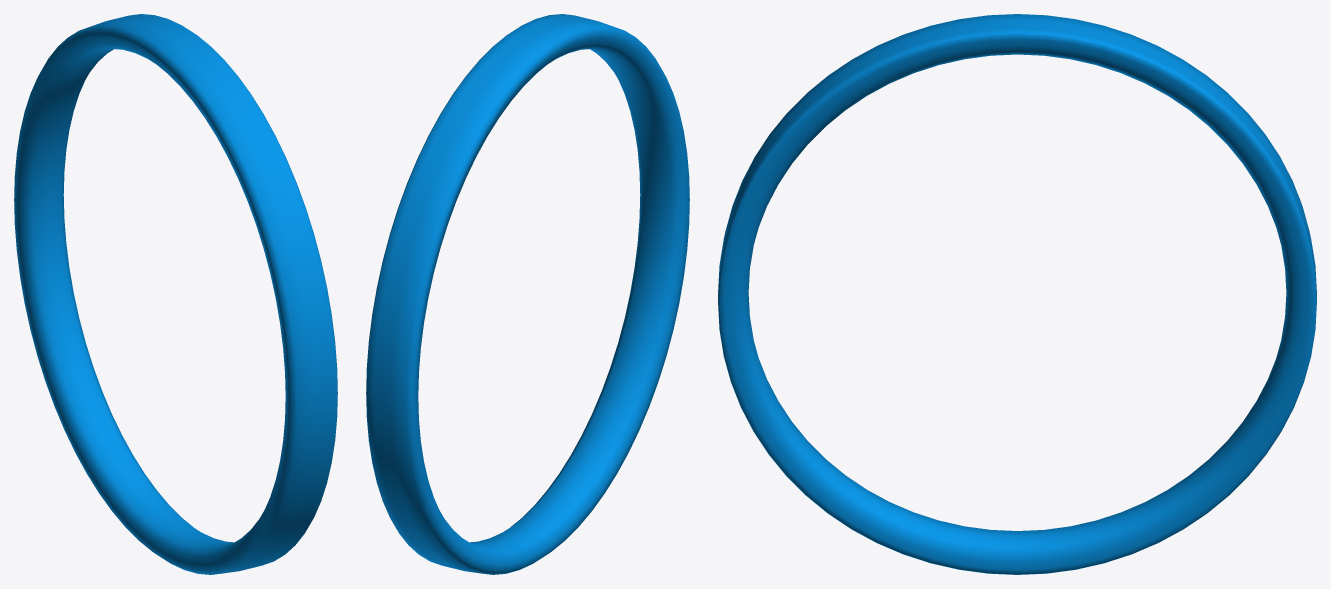
The model's file is connect4cell-ring-smoothed.gltf.
3 views of the same model, side by side, from view 1: azimuth 30°, elevation 25°; view 2: azimuth 150°, elevation 25°; view 3: azimuth 270°, elevation 25° (orthographic). The views are drawn at different scales.
Size of the model in its own units: 0.1535 by 1.67 by 1.67.
